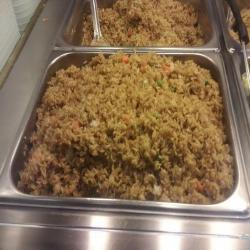rice: (26, 57, 242, 208), (72, 1, 213, 50)
